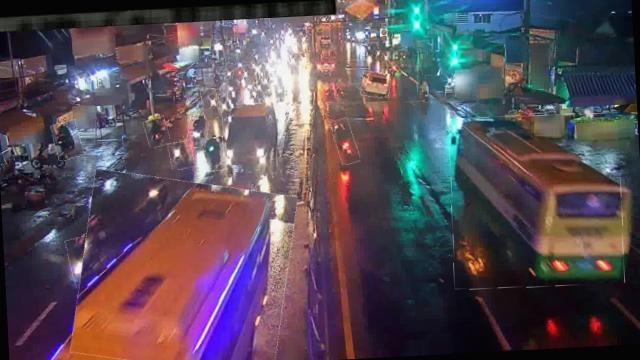Bike: (120, 179, 158, 233), (66, 236, 100, 289), (332, 116, 358, 164), (51, 121, 82, 160), (202, 136, 228, 171), (185, 113, 209, 148), (168, 140, 193, 170), (144, 116, 168, 146), (201, 87, 219, 118), (417, 74, 432, 103), (218, 93, 230, 118), (226, 79, 237, 102), (224, 62, 233, 79)
Bus: (68, 167, 298, 360), (447, 110, 626, 291), (221, 102, 278, 176)
Car: (360, 70, 390, 98)
